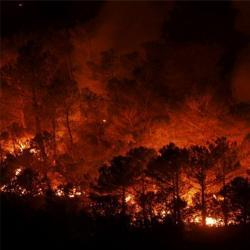fire: (205, 216, 219, 228)
